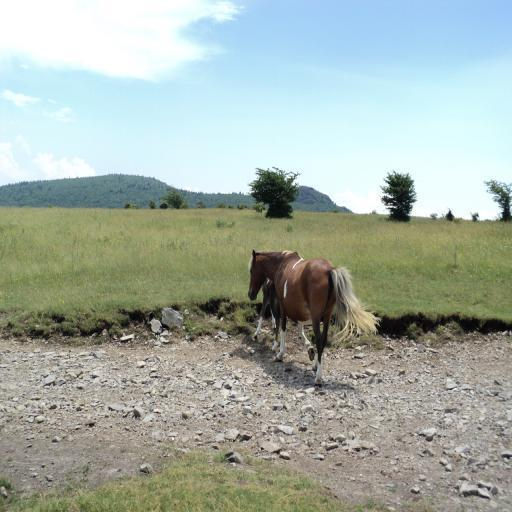horse: (248, 248, 380, 386), (252, 276, 288, 355)
